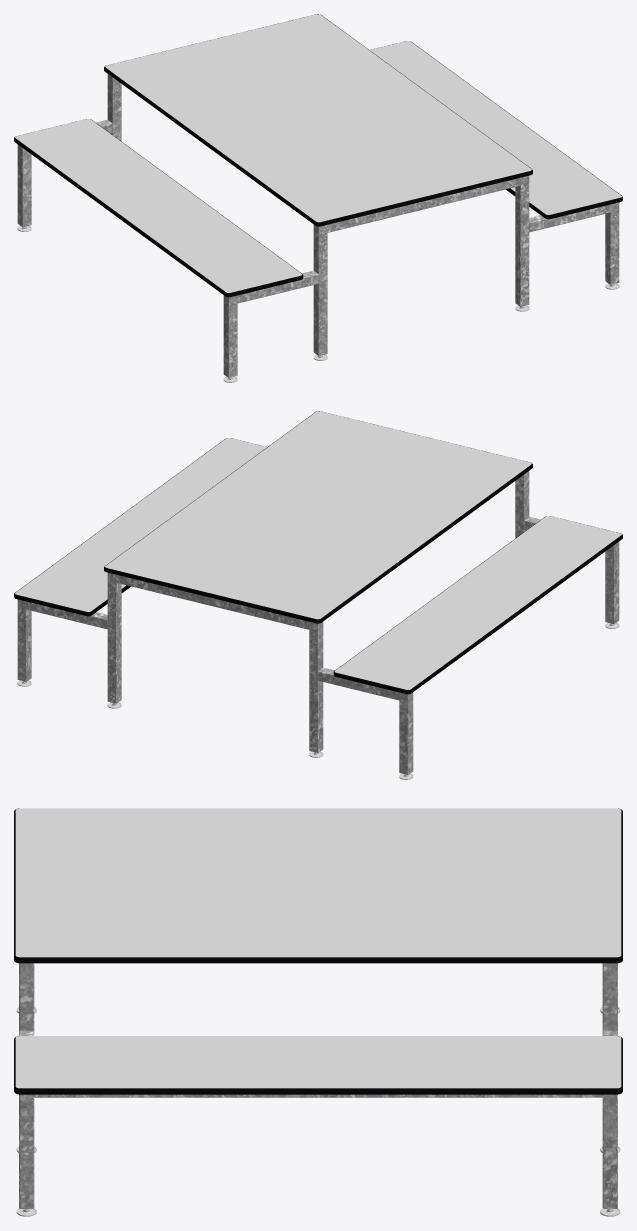
Rendered from sonneta-bambini.glb.
The picture shows the model from 3 angles, top to bottom: view 1: azimuth 30°, elevation 25°; view 2: azimuth 150°, elevation 25°; view 3: azimuth 270°, elevation 25°; orthographic projection. The views are drawn at different scales.
Visible parts, largest first — view 1: Tischplatte, Sitzplatte, Gestell, HPL-Kante; view 2: Tischplatte, Sitzplatte, Gestell, HPL-Kante; view 3: Tischplatte, Sitzplatte, HPL-Kante, Gestell.
Part boxes in pixels (x1,y1,x2,y2): Tischplatte: [105, 14, 531, 222]; Sitzplatte: [15, 41, 621, 292]; Gestell: [17, 74, 619, 377]; HPL-Kante: [14, 14, 622, 297]; Tischplatte: [105, 411, 531, 619]; Sitzplatte: [15, 438, 621, 689]; Gestell: [17, 471, 619, 774]; HPL-Kante: [14, 411, 622, 694]; Tischplatte: [15, 808, 621, 957]; Sitzplatte: [15, 1036, 621, 1088]; HPL-Kante: [14, 808, 622, 1094]; Gestell: [19, 963, 617, 1208].
Bounding box in the file's own units: 1.28 × 0.43 × 1.2.
3 materials, 1 textured.
